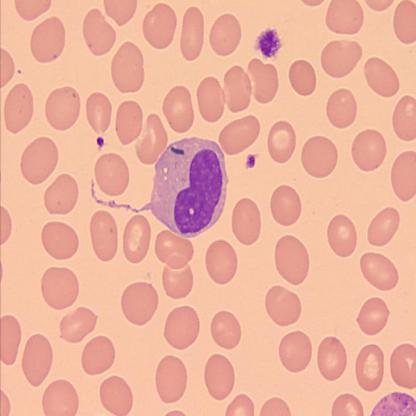Atypical lymphocyte: (93, 138, 229, 237)
